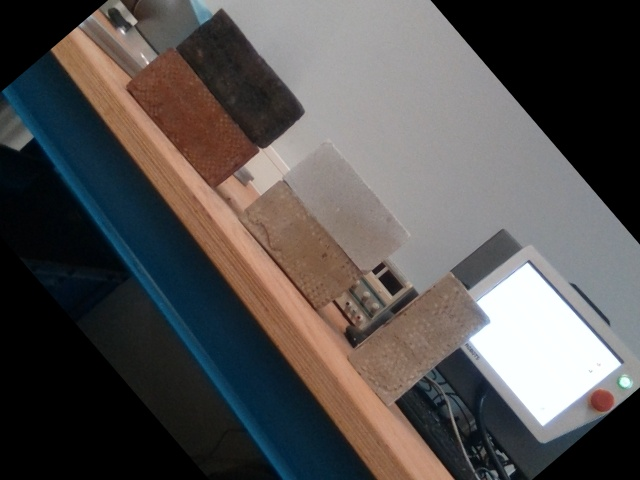brick: (350, 276, 489, 406), (127, 51, 257, 188), (177, 13, 305, 149), (282, 142, 409, 275), (239, 182, 359, 309)
